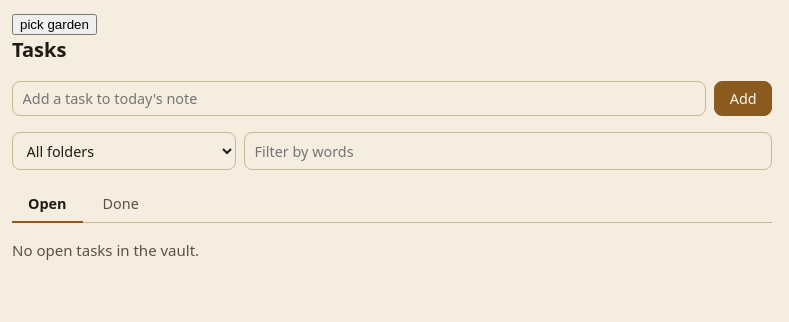
Scenario: TasksPage adding › keeps the text and shows the error inline when the add fails
Check: the text "No open tasks in the vault." is shown, box [12,240,199,260]
Type "Order timber" into the field named "New task".
click(359, 99); type("Order timber")  # box [12,81,706,116]
Then press Enter
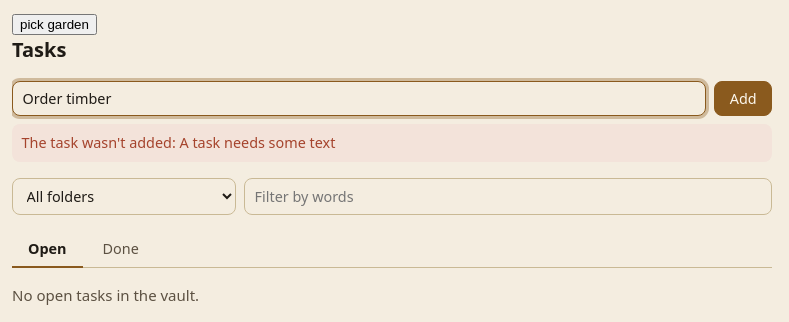
Check: the text "No open tasks in the vault." is shown, box [12,285,199,305]
Check: the message reads "The task wasn't added: A task needs some text", box [22,133,335,152]
